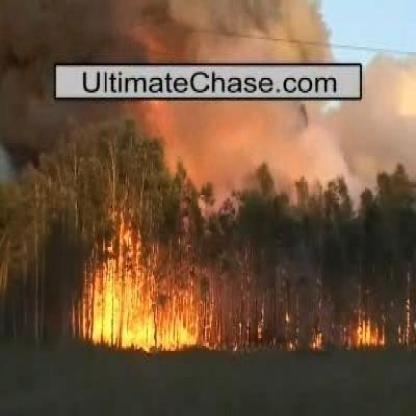-: (28, 0, 319, 57)
foggia-v2-map80-epoch100 - v1 4323: (94, 278, 148, 344)
